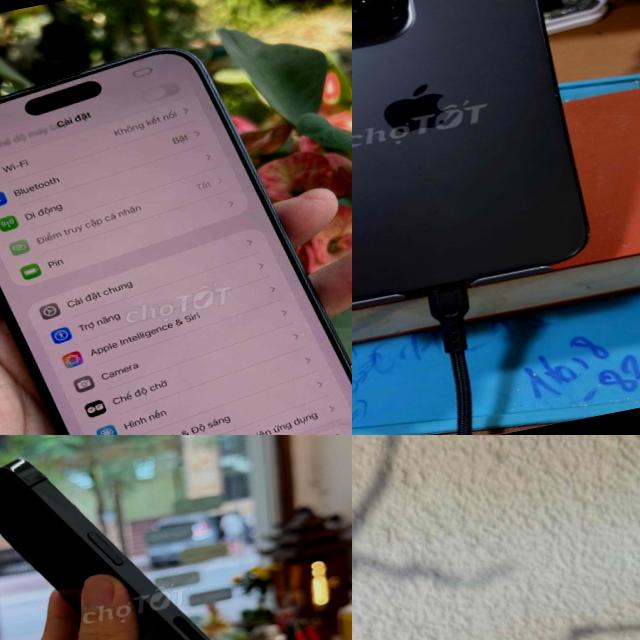gen_12_13: (0, 435, 299, 640)
gen_14: (352, 0, 612, 320)
gen_15: (0, 14, 352, 435)
scratch: (342, 358, 352, 373), (147, 45, 158, 52)
